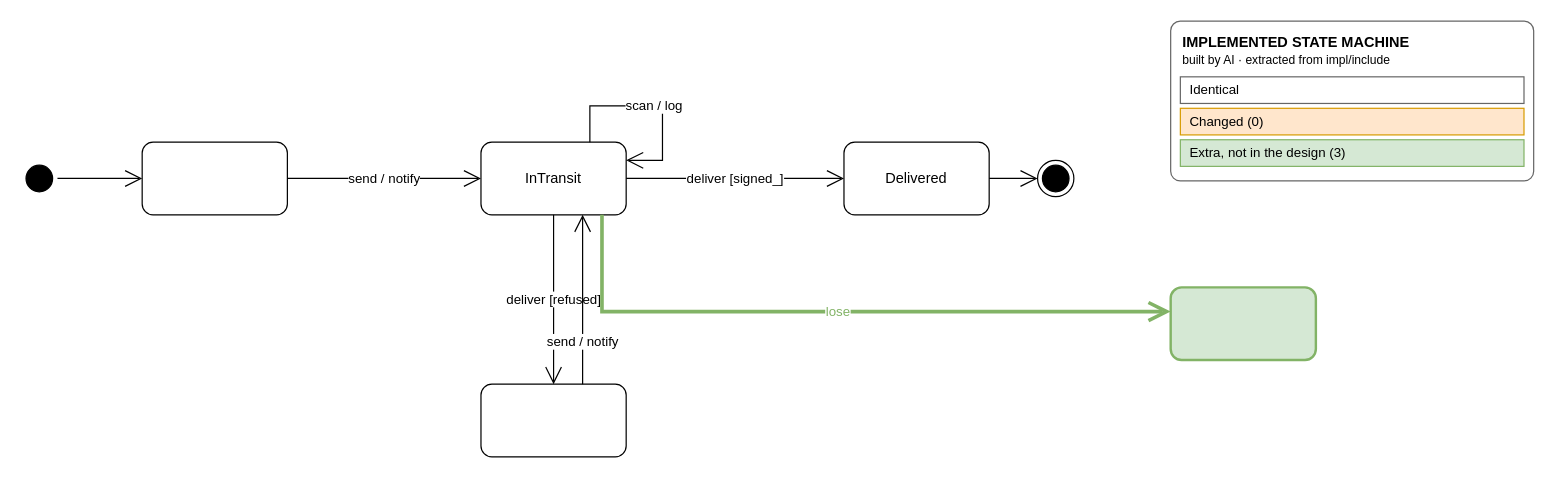
The diagram is 1555 pixels wide and 478 high, and some of its shapes have lost their labels. The centre of each missing label's shape, as x and y in pixels:
Lost: (1242,323)
Pending: (214,178)
Returned: (553,420)
